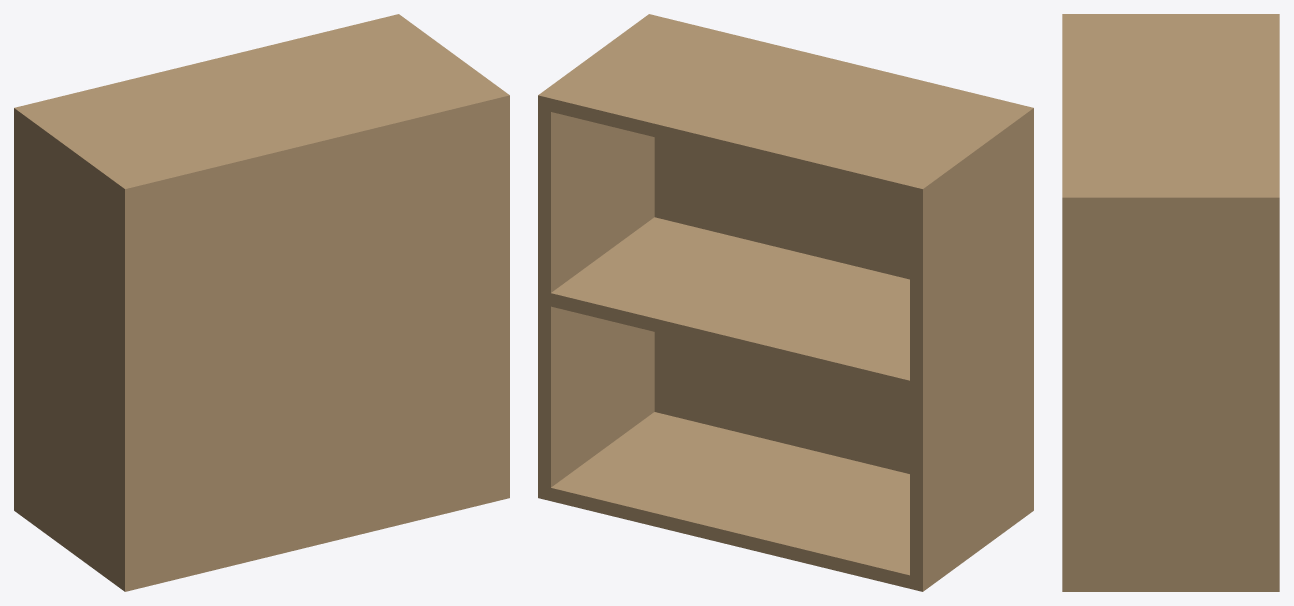
The model's file is parametric-wall-shelf-3rd-0600x0300x0600.glb.
The picture shows the model from 3 angles, left to right: view 1: azimuth 30°, elevation 25°; view 2: azimuth 150°, elevation 25°; view 3: azimuth 270°, elevation 25°; orthographic projection. The views are drawn at different scales.
Parts seen in each view (by area): view 1: backboard, end:-1, top, end:1; view 2: end:-1, backboard, top, bottom, shelf, end:1; view 3: end:1, top, backboard, end:-1.
Boxes of the visible parts, box(x1,y1,x2,y2) form: backboard: box(117, 90, 509, 591); end:-1: box(14, 105, 129, 586); top: box(27, 17, 488, 180); end:1: box(386, 14, 501, 92); end:-1: box(910, 110, 1026, 591); backboard: box(642, 14, 1033, 515); top: box(551, 22, 1013, 199); bottom: box(551, 412, 909, 588); shelf: box(551, 217, 909, 393); end:1: box(538, 19, 654, 500); end:1: box(1076, 191, 1279, 591); top: box(1076, 20, 1279, 191); backboard: box(1062, 14, 1076, 591); end:-1: box(1076, 14, 1279, 19).
Size of the model in its own units: 0.6 by 0.6 by 0.3.
